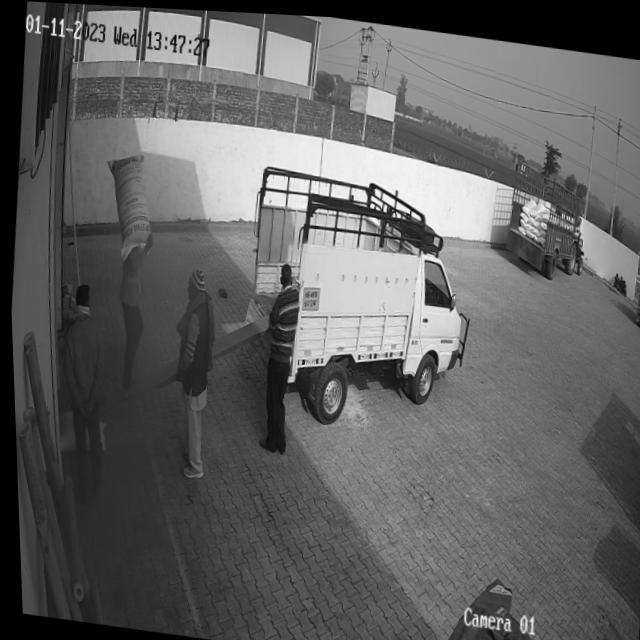sack: (97, 148, 156, 263)
